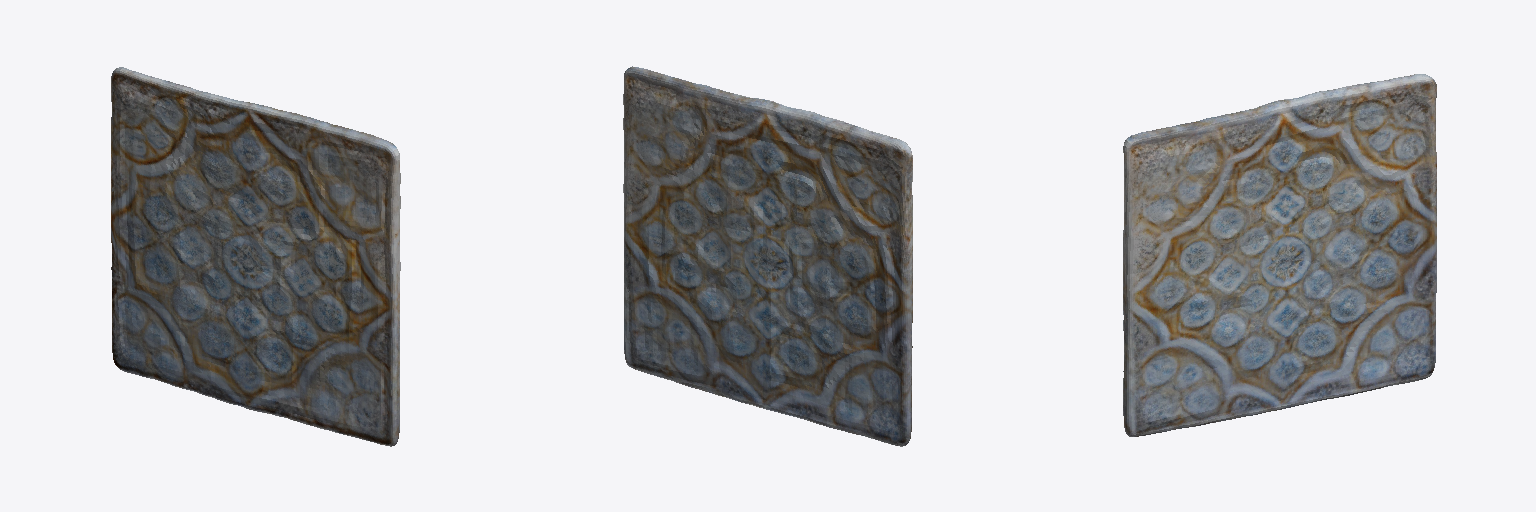
The picture shows the model from 3 angles: view 1: azimuth 30°, elevation 25°; view 2: azimuth 210°, elevation 25°; view 3: azimuth 270°, elevation 25°; orthographic projection.
Visible parts, largest first — view 1: mesh; view 2: mesh; view 3: mesh.
Part boxes in pixels (bbox=[...]): mesh: bbox=[111, 67, 400, 446]; mesh: bbox=[623, 66, 912, 446]; mesh: bbox=[1123, 74, 1436, 436].
Bounding box in the file's own units: 0.4733 × 0.9987 × 0.9275.
Materials: 1 (1 with a texture image).